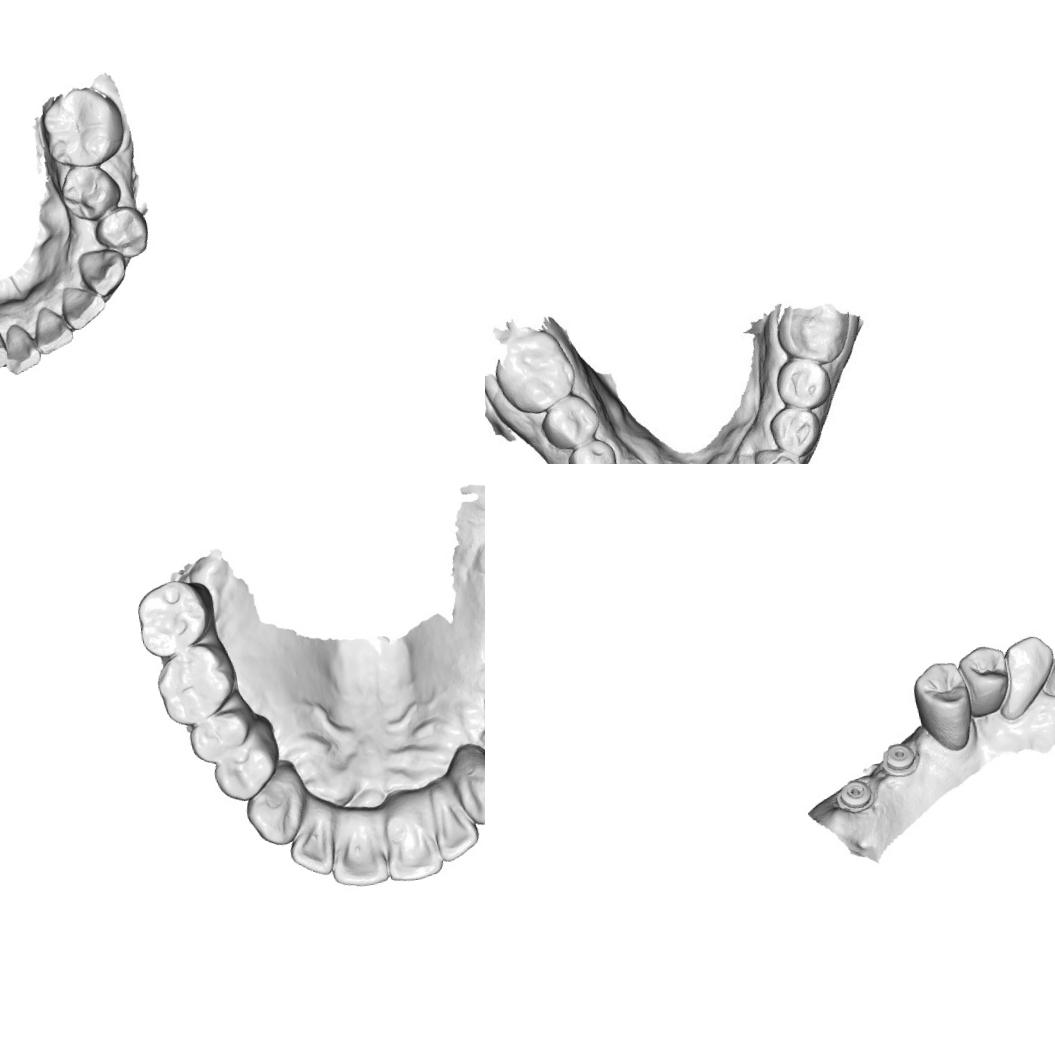canine: (238, 764, 312, 852), (989, 631, 1055, 723), (76, 244, 131, 300), (447, 751, 485, 830), (750, 441, 804, 464)
implant: (878, 739, 920, 777)
implant_minus: (833, 774, 877, 817)
incisor: (377, 809, 446, 886), (324, 814, 391, 892), (282, 810, 340, 881), (428, 797, 482, 864), (58, 280, 109, 332), (0, 319, 45, 377), (29, 302, 76, 356), (1034, 647, 1055, 703), (0, 321, 11, 373)
molar: (151, 637, 246, 731), (36, 80, 129, 172), (490, 327, 581, 421), (131, 573, 213, 662), (774, 298, 854, 370)
premolar: (907, 655, 980, 757), (206, 728, 286, 807), (954, 640, 1016, 722), (55, 158, 125, 224), (184, 706, 256, 768), (539, 391, 604, 454), (90, 202, 152, 264), (772, 354, 832, 413), (765, 404, 825, 461), (561, 436, 623, 464)
